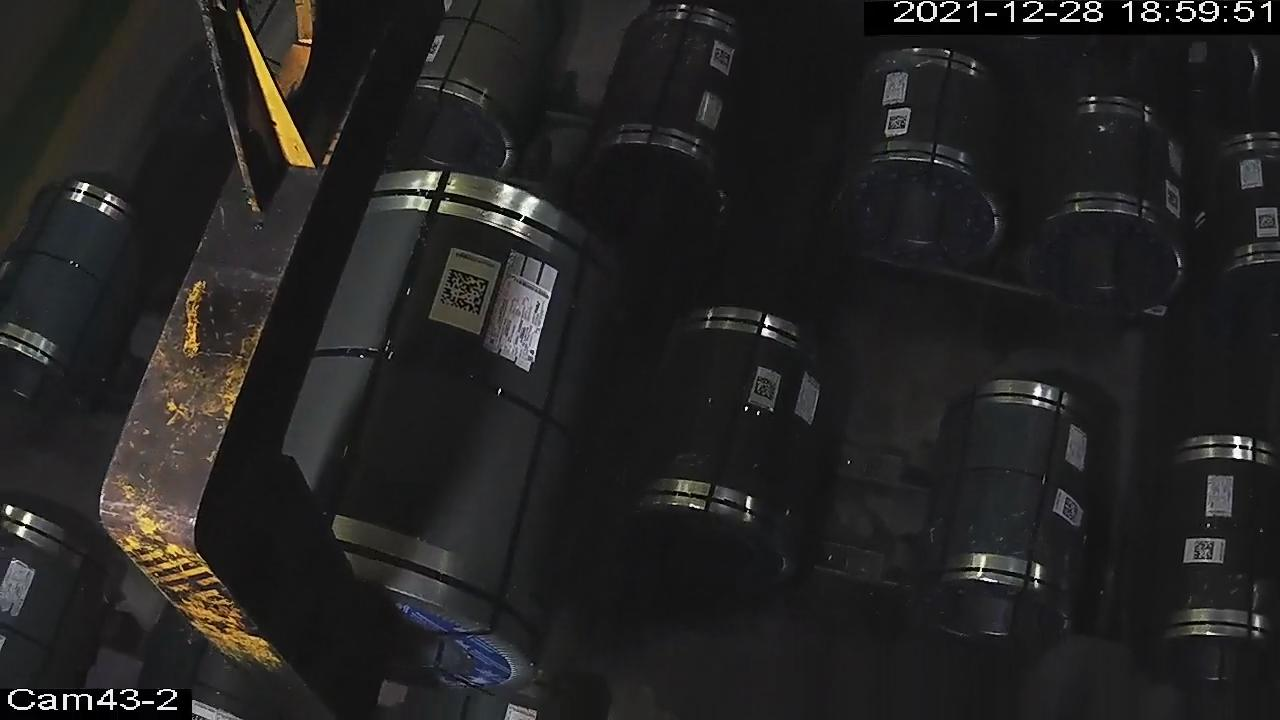data matrix: (432, 265, 495, 320), (750, 373, 783, 404), (1190, 538, 1218, 564), (1060, 496, 1082, 528), (709, 46, 734, 70), (885, 112, 913, 133), (1256, 212, 1279, 232), (1165, 188, 1182, 212)
